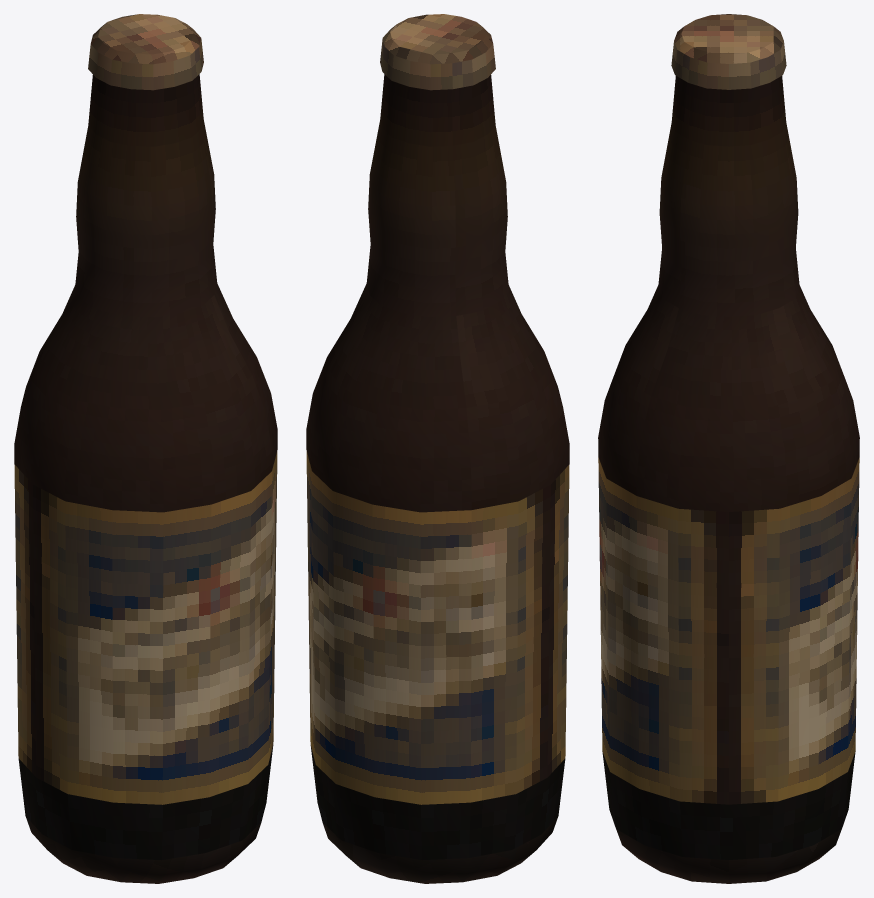
The model's file is glass_bottle_1.fbx.
3 views of the same model, side by side, from view 1: azimuth 30°, elevation 25°; view 2: azimuth 150°, elevation 25°; view 3: azimuth 270°, elevation 25° (orthographic).
Parts seen in each view (by area): view 1: glass_bottle_1; view 2: glass_bottle_1; view 3: glass_bottle_1.
Boxes of the visible parts, x1,y1,x2,y2 form: glass_bottle_1: (14, 14, 277, 883); glass_bottle_1: (306, 14, 569, 883); glass_bottle_1: (598, 14, 859, 883).
Bounding box in the file's own units: 11.52 × 39.31 × 11.52.
